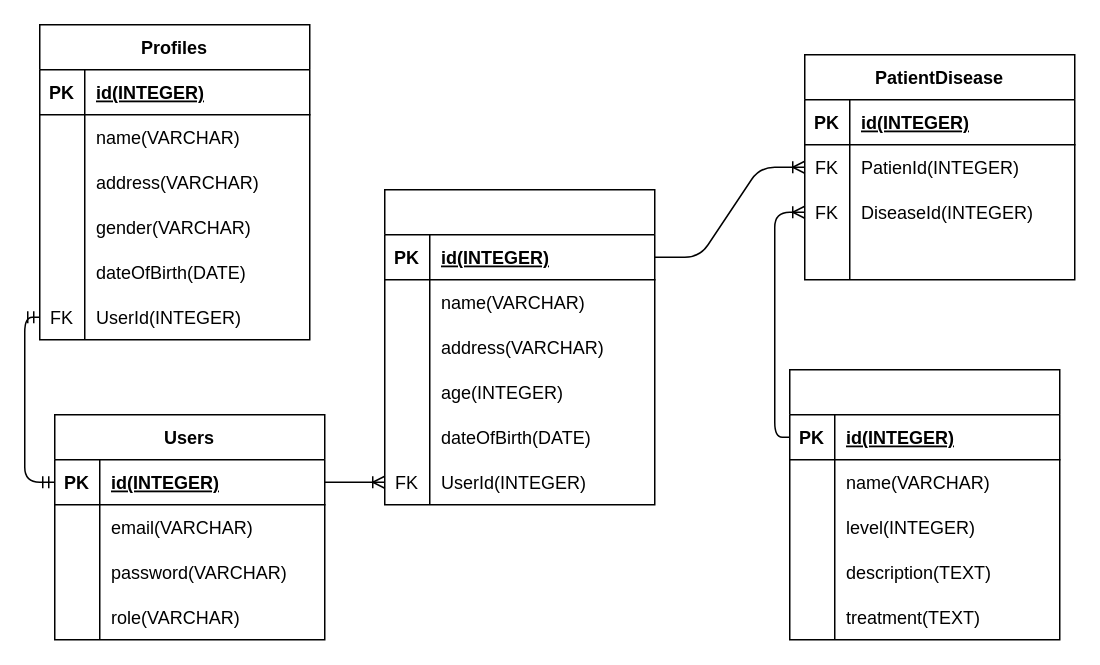
Image size: 1100x665. Some labels were removed from this diagram. Each missing label, with the box of its shape:
Diseases: (788, 368, 1060, 640)
Patients: (383, 188, 655, 505)
